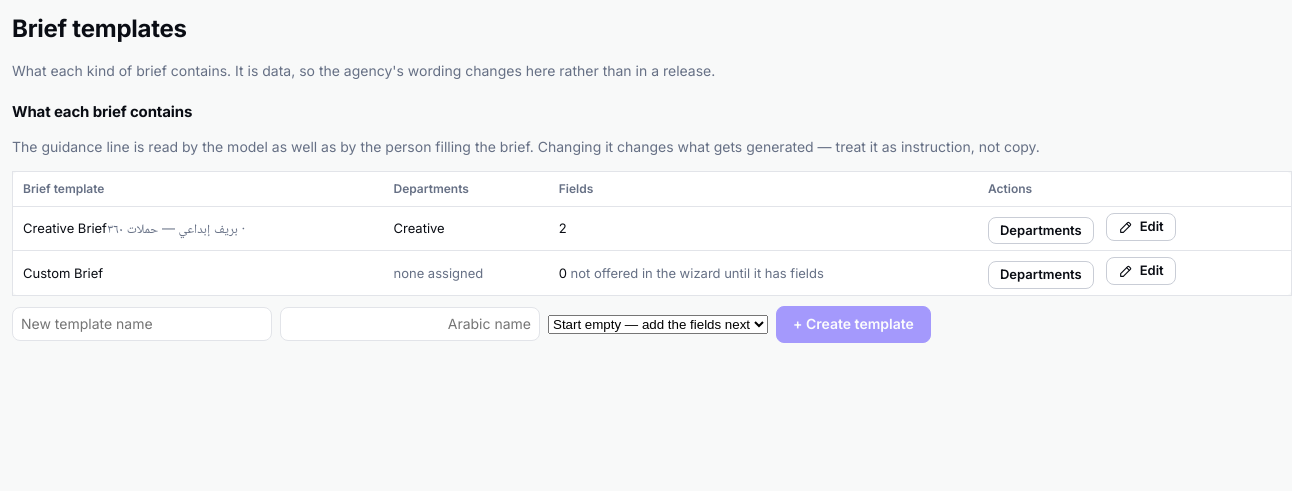
Test: Admin → Brief templates — naming, creating, assigning (30 Aug) › notes how many other briefs a department already uses
Click the button with test id "brief-template-assign-open-custom": (1041, 275) [988,261,1094,289]
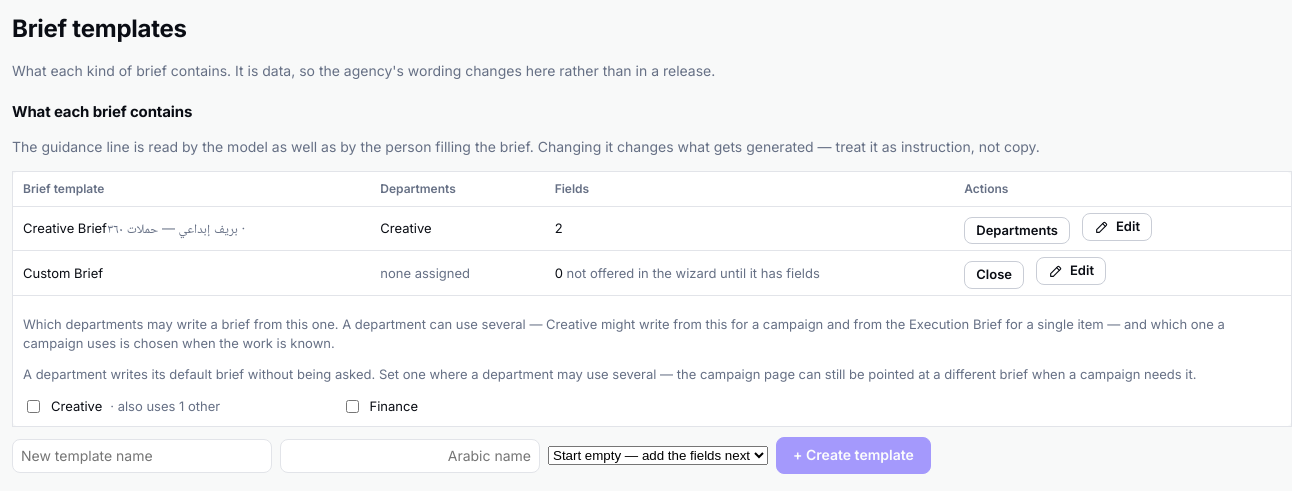
Check: the row with test id "brief-template-assign-row-custom" shows "also uses", box [118,398,220,414]
